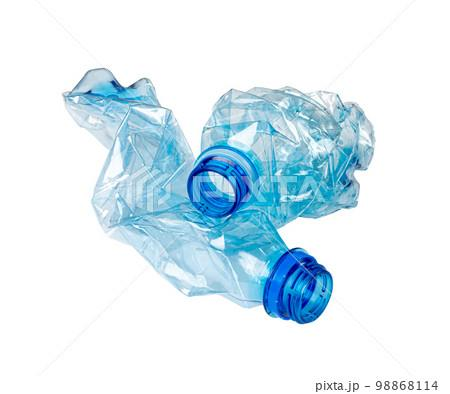plastic: (53, 64, 339, 331), (186, 81, 386, 229)
